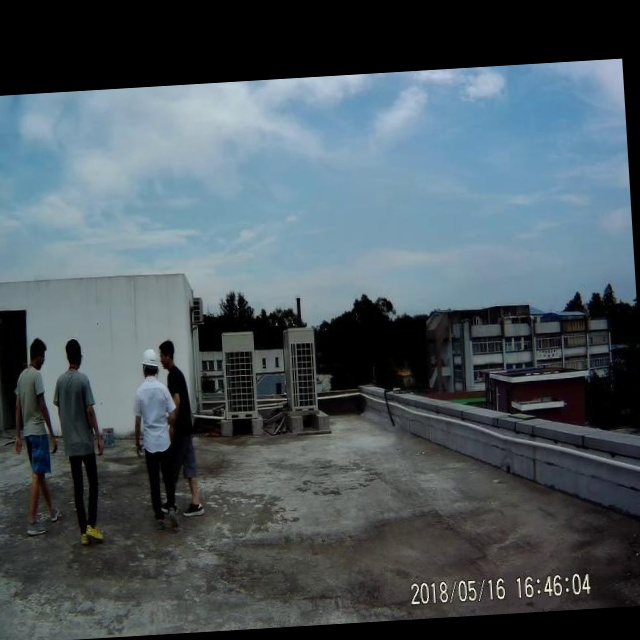Con_Casco: (140, 347, 160, 379)
Sin_Casco_Mascarrilla: (65, 337, 84, 371)
Sin_Chaleco: (56, 371, 97, 461), (133, 378, 178, 452)
